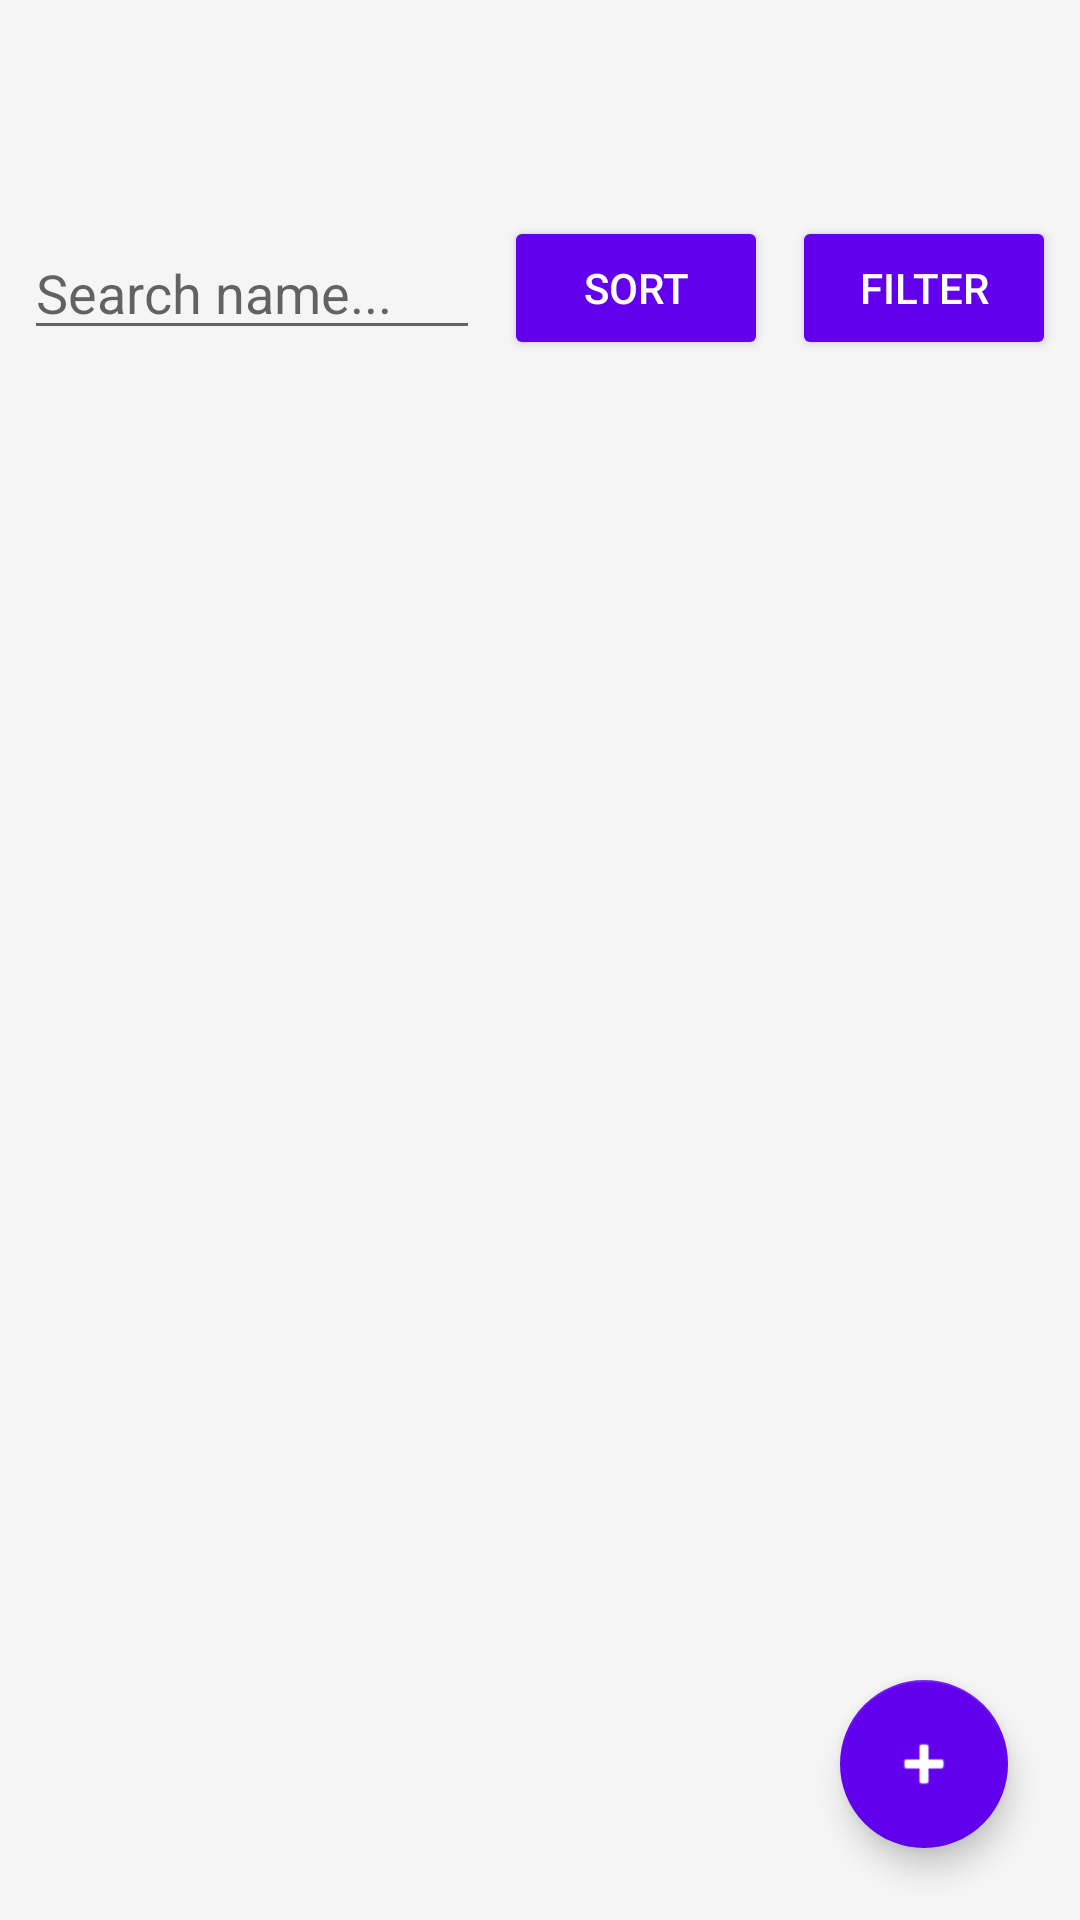

Where to tap for icons on this 1080x1920 app screen, as (x,y):
Add New Doll: (924,1764)
